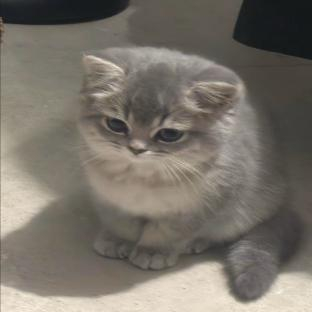Animal: (78, 47, 301, 299)
